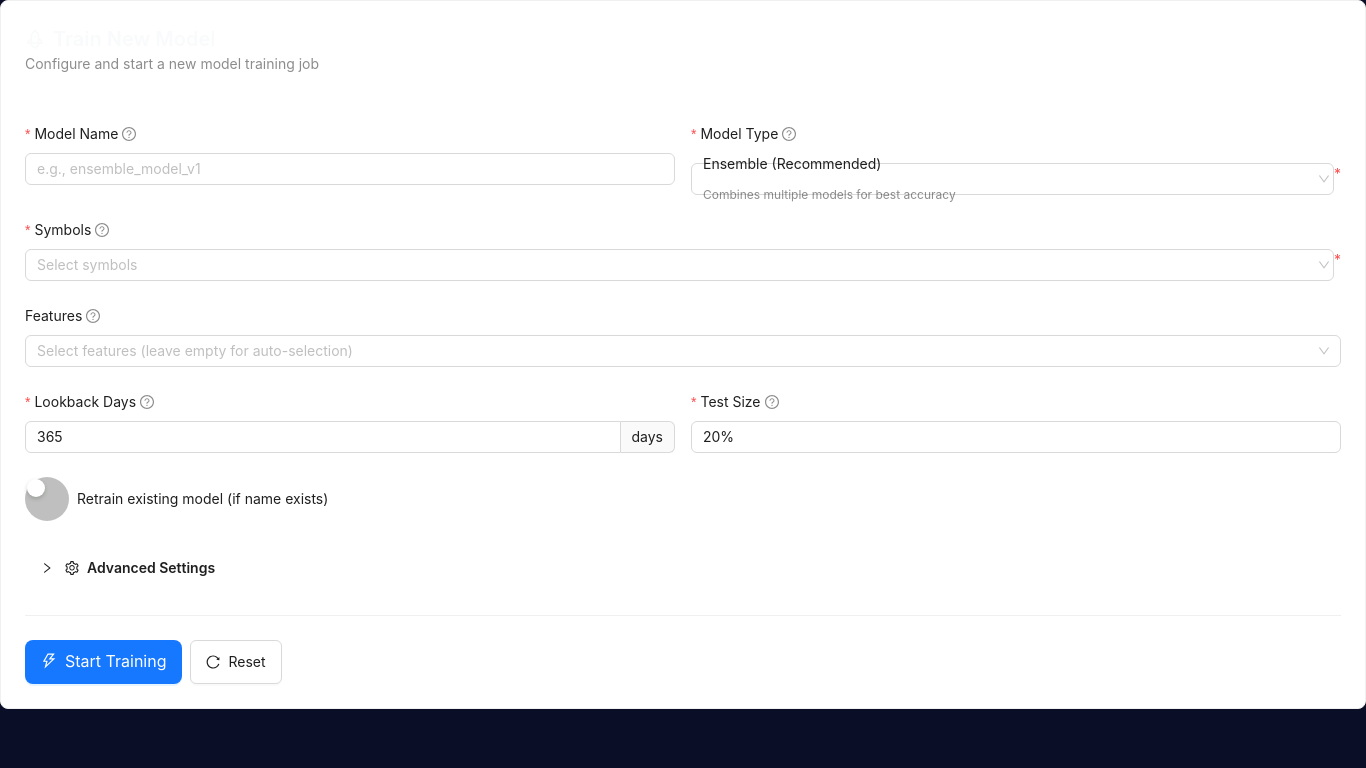
Test: TrainingForm › Form Validation › should show validation error for missing symbols
// Fill name but not symbols
Type "TestModel" into the field with placeholder "e.g., ensemble_model_v1" at (350, 169), box [25, 153, 675, 185]
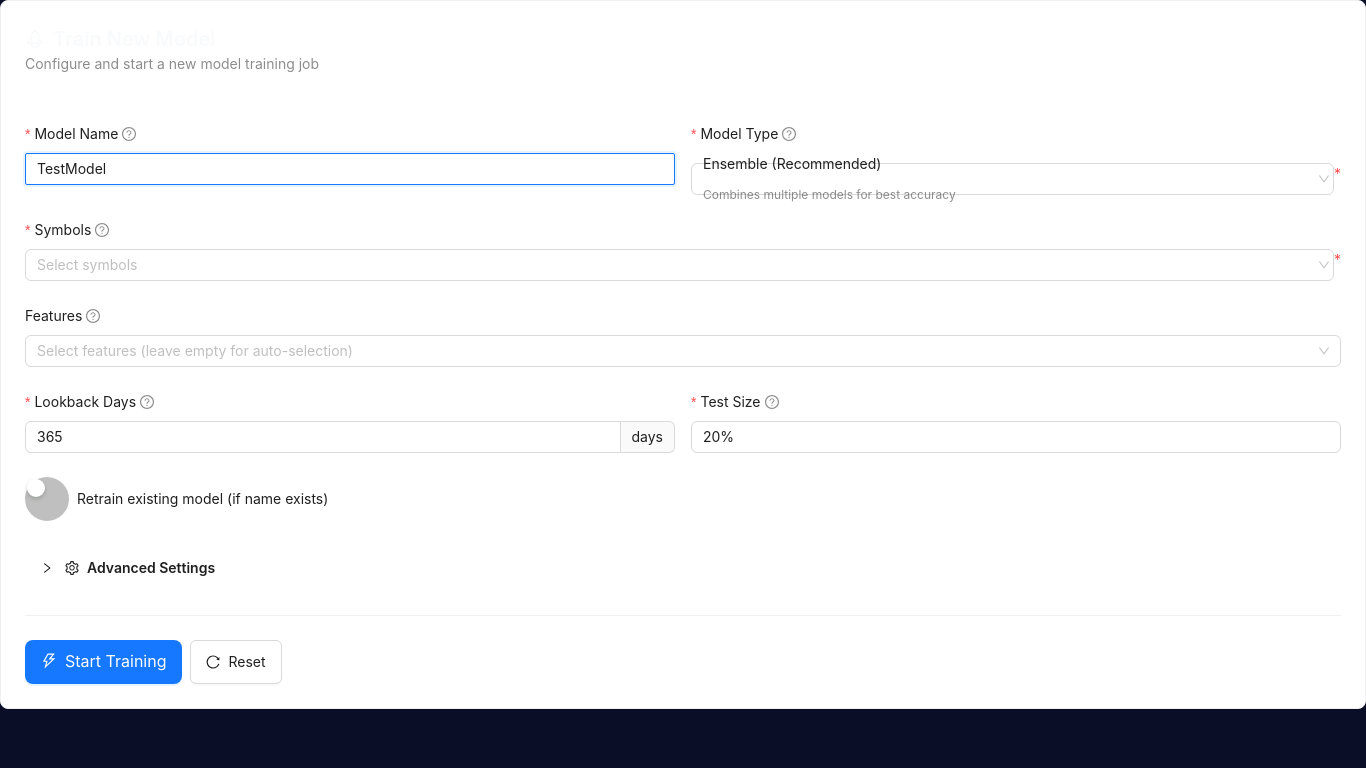
Click the button "Start Training" at (104, 662), box [25, 640, 182, 684]
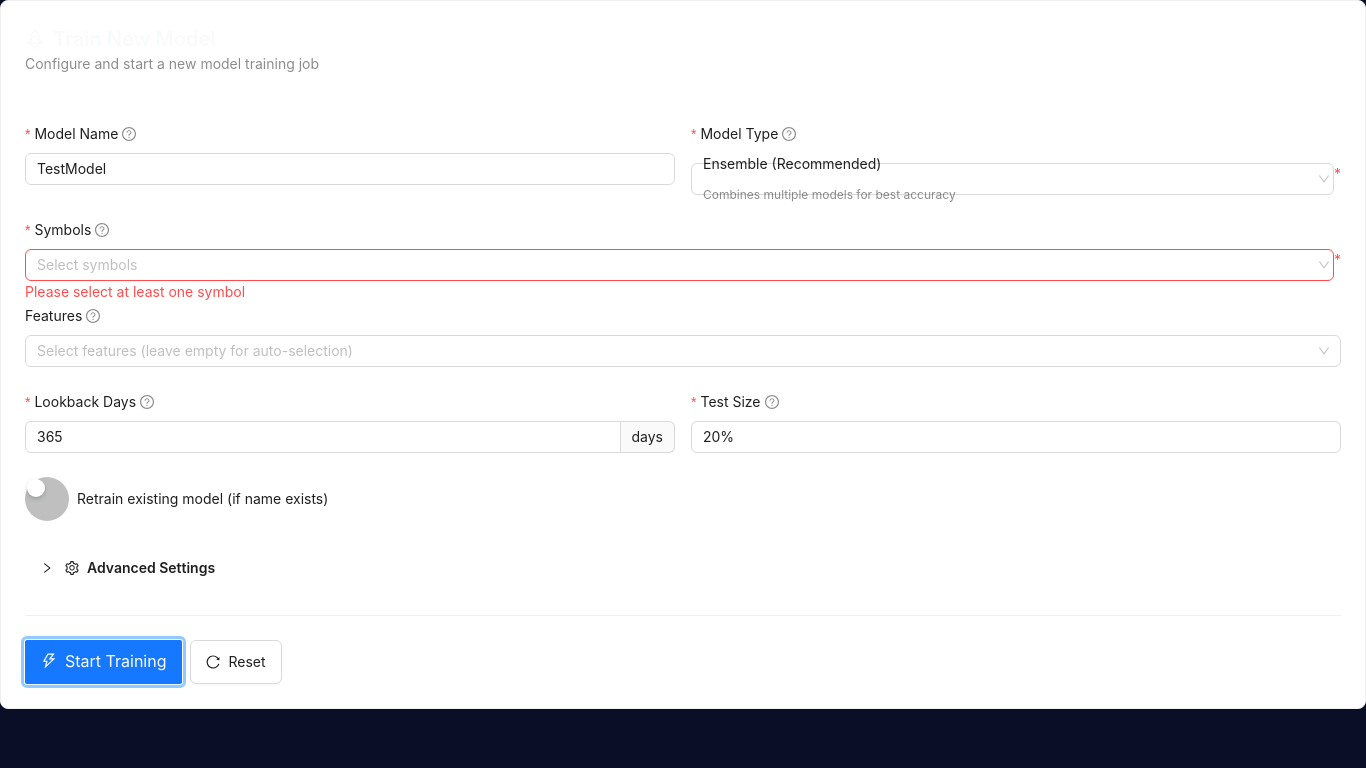
Check: the text "Please select at least one symbol" is shown, box [25, 283, 245, 300]
